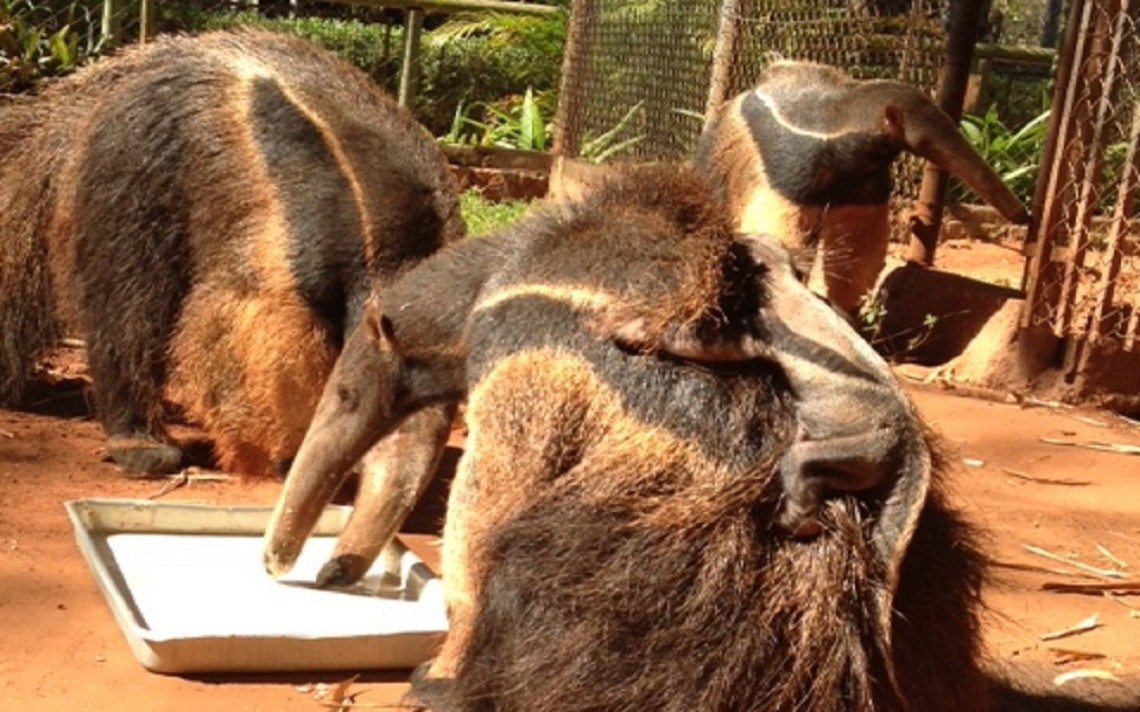TamanduaBandeira: (259, 192, 1006, 702), (4, 28, 451, 594), (632, 225, 957, 580), (672, 44, 1044, 311)
